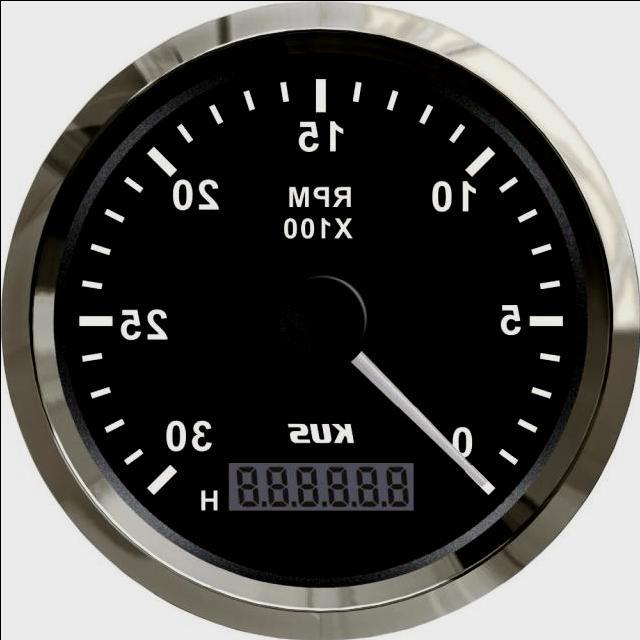Needle_Tip: (456, 457, 510, 517)
Needle_base: (251, 269, 379, 391)
max_value: (144, 404, 232, 466)
min_value: (444, 423, 477, 458)
